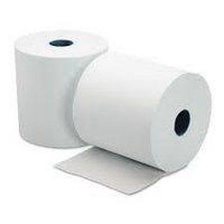tissue: (45, 42, 216, 199), (7, 22, 113, 153)
